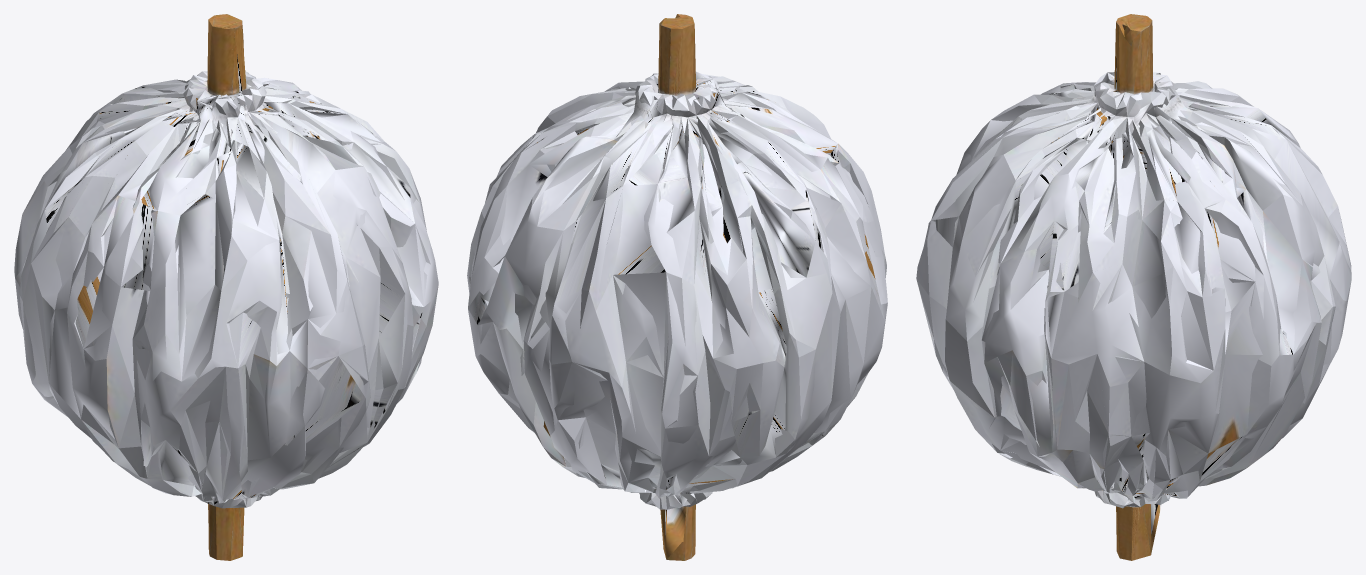
Rendered from w3puff.glb.
The picture shows the model from 3 angles, left to right: view 1: azimuth 30°, elevation 25°; view 2: azimuth 150°, elevation 25°; view 3: azimuth 270°, elevation 25°; orthographic projection.
Parts seen in each view (by area): view 1: w3puff_near, w3puff_far; view 2: w3puff_near, w3puff_far; view 3: w3puff_near, w3puff_far.
Boxes of the visible parts, box(x1,y1,x2,y2) form: w3puff_near: box(14, 14, 438, 560); w3puff_far: box(21, 24, 425, 560); w3puff_near: box(468, 14, 887, 560); w3puff_far: box(467, 15, 883, 559); w3puff_near: box(916, 14, 1351, 560); w3puff_far: box(917, 14, 1339, 554).
Bounding box in the file's own units: 0.5216 × 0.75 × 0.5556.
1 material, 1 textured.
